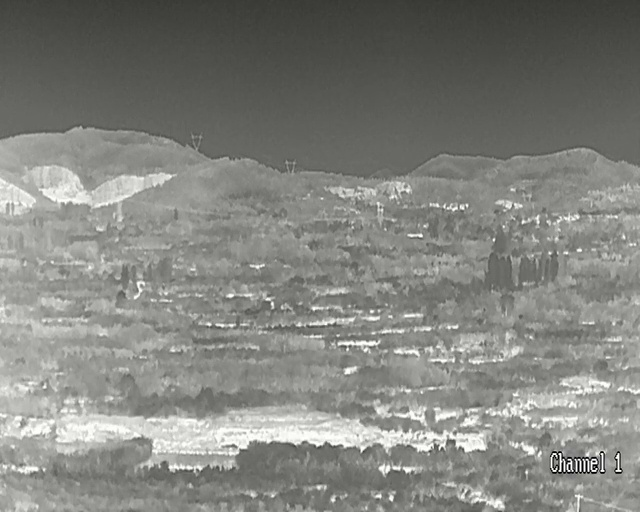uav: (249, 263, 264, 268)
